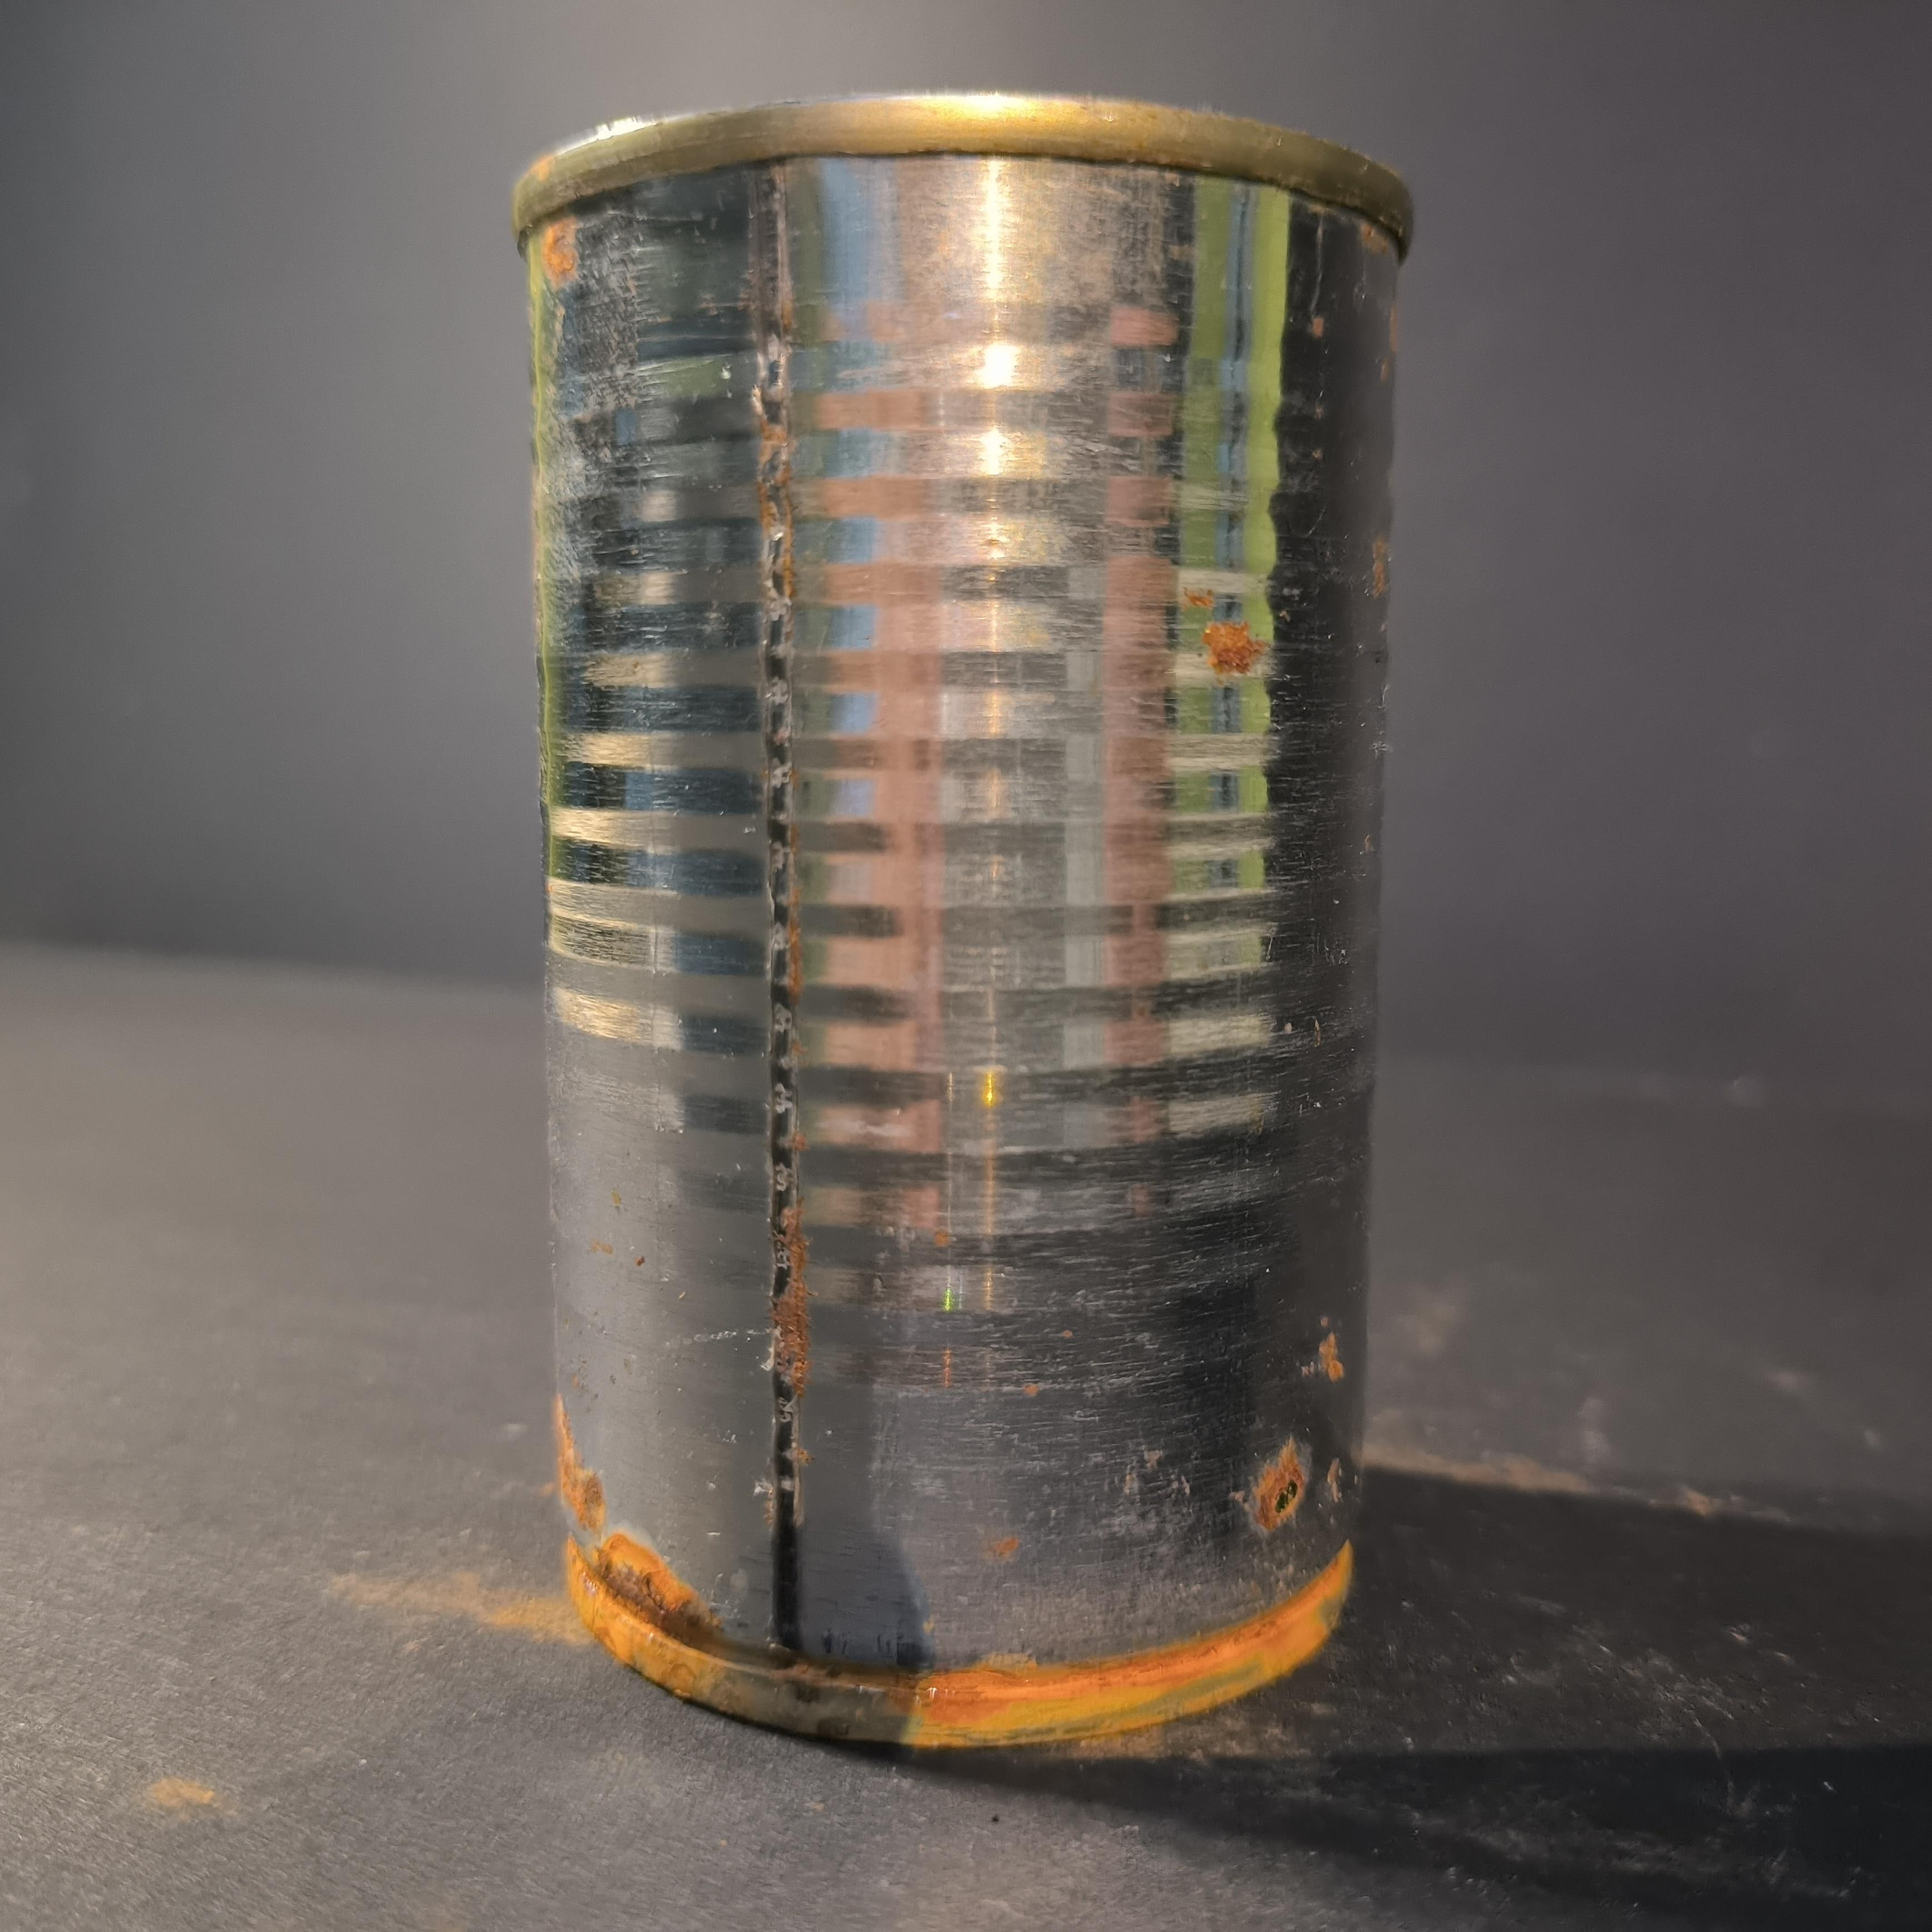Rusted: (442, 30, 1410, 1773)
